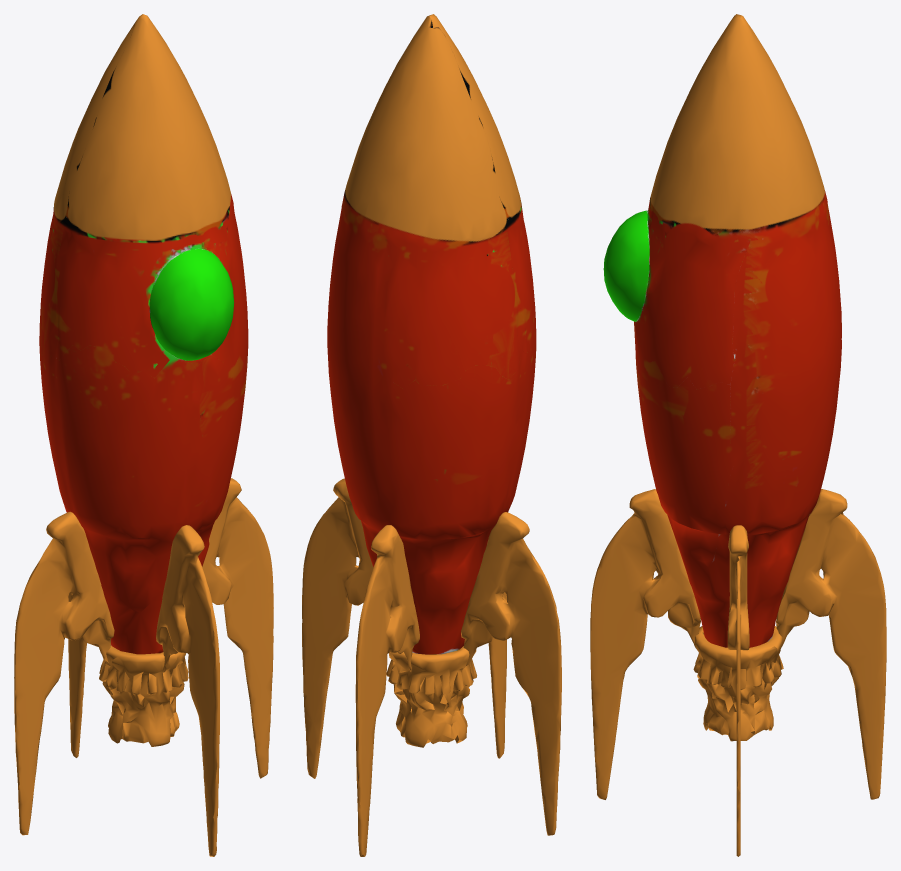
The model's file is rocketship.obj.
The picture shows the model from 3 angles, left to right: view 1: azimuth 30°, elevation 25°; view 2: azimuth 150°, elevation 25°; view 3: azimuth 270°, elevation 25°; orthographic projection.
Visible parts, largest first — view 1: FUSELODGE, FINS11, WINDOWS11, ENGINE11; view 2: FUSELODGE, FINS11, ENGINE11; view 3: FUSELODGE, FINS11, ENGINE11, WINDOWS11.
Boxes of the visible parts, left/top/right/bottom form: FUSELODGE: left=39, top=14, right=248, bottom=654; FINS11: left=14, top=478, right=273, bottom=856; WINDOWS11: left=149, top=248, right=234, bottom=360; ENGINE11: left=99, top=645, right=188, bottom=746; FUSELODGE: left=327, top=14, right=536, bottom=654; FINS11: left=302, top=478, right=561, bottom=856; ENGINE11: left=386, top=646, right=476, bottom=747; FUSELODGE: left=634, top=14, right=841, bottom=647; FINS11: left=590, top=489, right=886, bottom=856; ENGINE11: left=693, top=626, right=783, bottom=741; WINDOWS11: left=603, top=210, right=649, bottom=321.
Size of the model in its own units: 2.36 by 6.9 by 2.36.
Materials: 4 (4 with a texture image).
